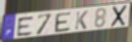7: (36, 12, 53, 36)
8: (94, 7, 108, 30)
E: (17, 16, 35, 38), (54, 12, 72, 33)
K: (74, 10, 89, 31)
X: (110, 4, 129, 28)
